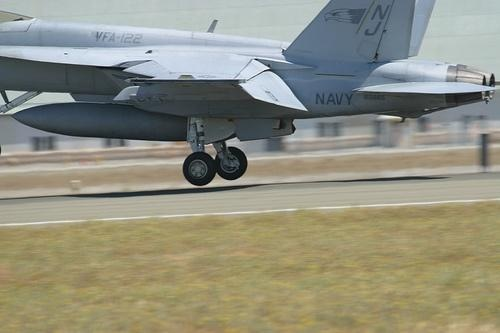aeroplane: (2, 1, 497, 186)
